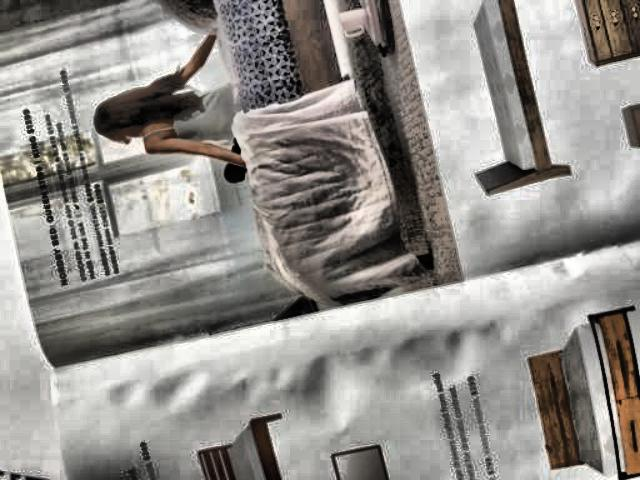Paper: (10, 4, 622, 474)
